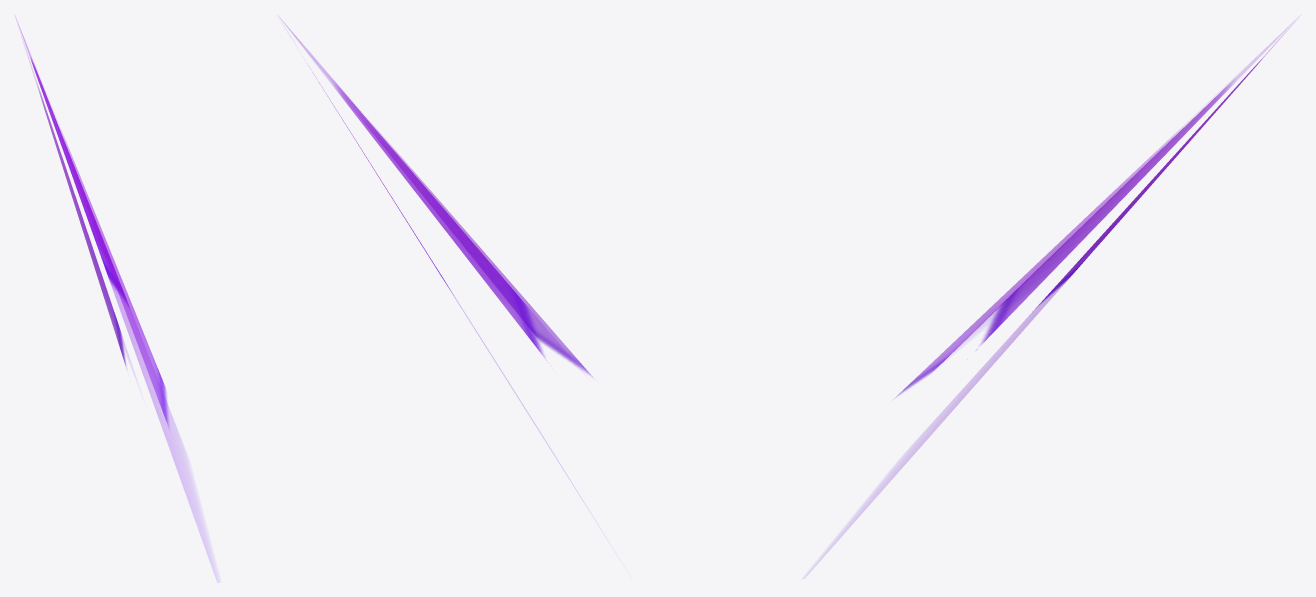
Rendered from beamL2.glb.
3 views of the same model, side by side, from view 1: azimuth 30°, elevation 25°; view 2: azimuth 150°, elevation 25°; view 3: azimuth 270°, elevation 25° (orthographic). The views are drawn at different scales.
Parts seen in each view (by area): view 1: 柱体.024; view 2: 柱体.024; view 3: 柱体.024.
Boxes of the visible parts, bbox=[...] form: 柱体.024: bbox=[15, 16, 216, 579]; 柱体.024: bbox=[280, 18, 592, 493]; 柱体.024: bbox=[810, 22, 1294, 571].
Size of the model in its own units: 2.75 by 25.86 by 23.3.
1 material, 1 textured.
